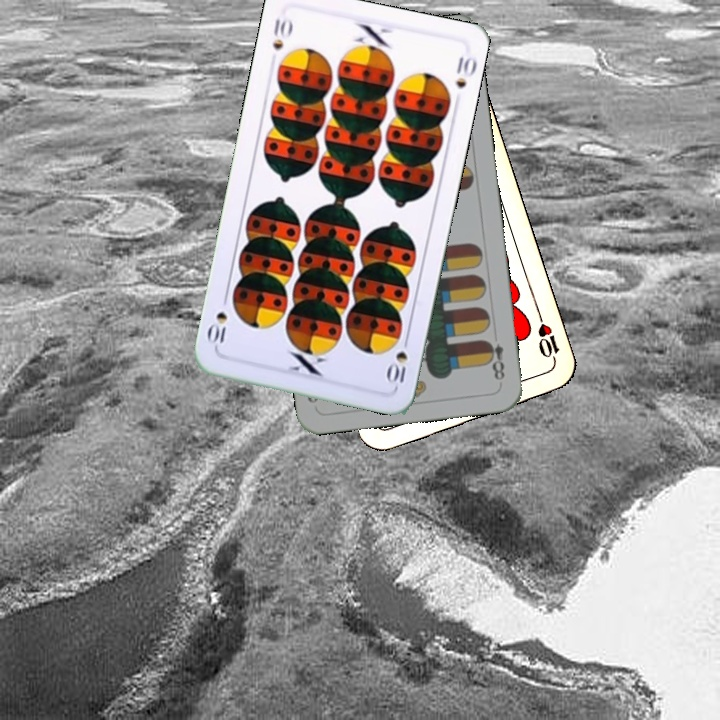E8: (481, 336, 507, 383)
H10: (533, 309, 562, 368)
S10: (383, 331, 412, 390), (268, 14, 295, 54)
